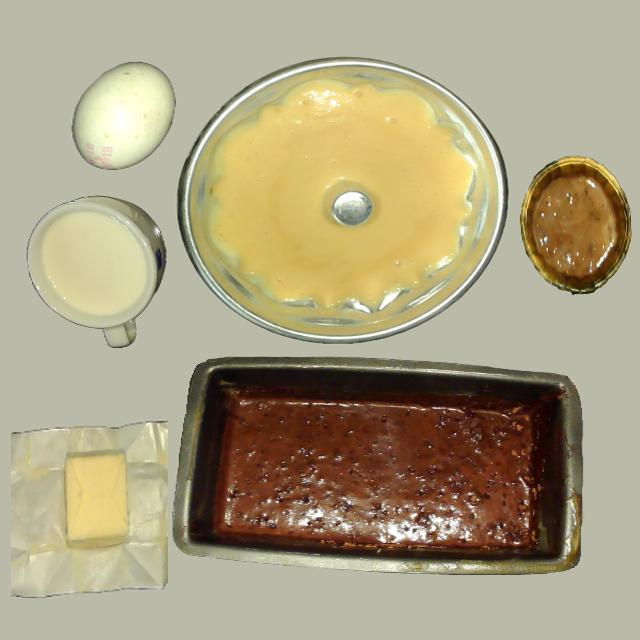Milk: (44, 214, 144, 313)
